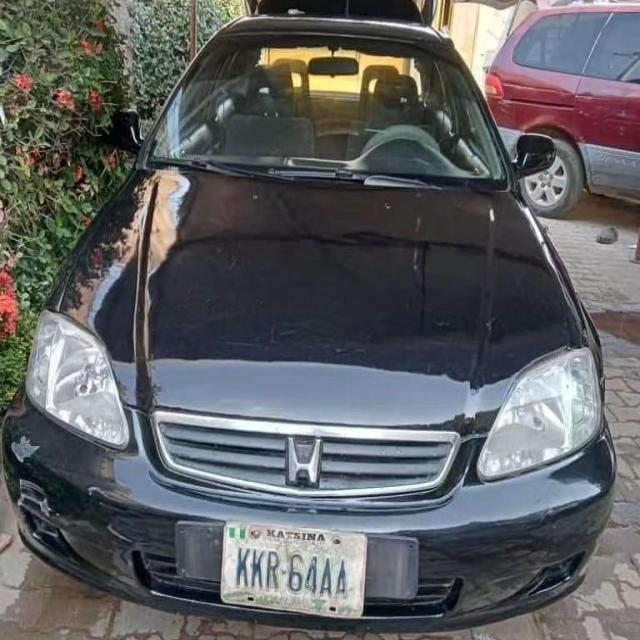Nigerian License Plate - vdataset benjamin-daria: (224, 526, 363, 611)
